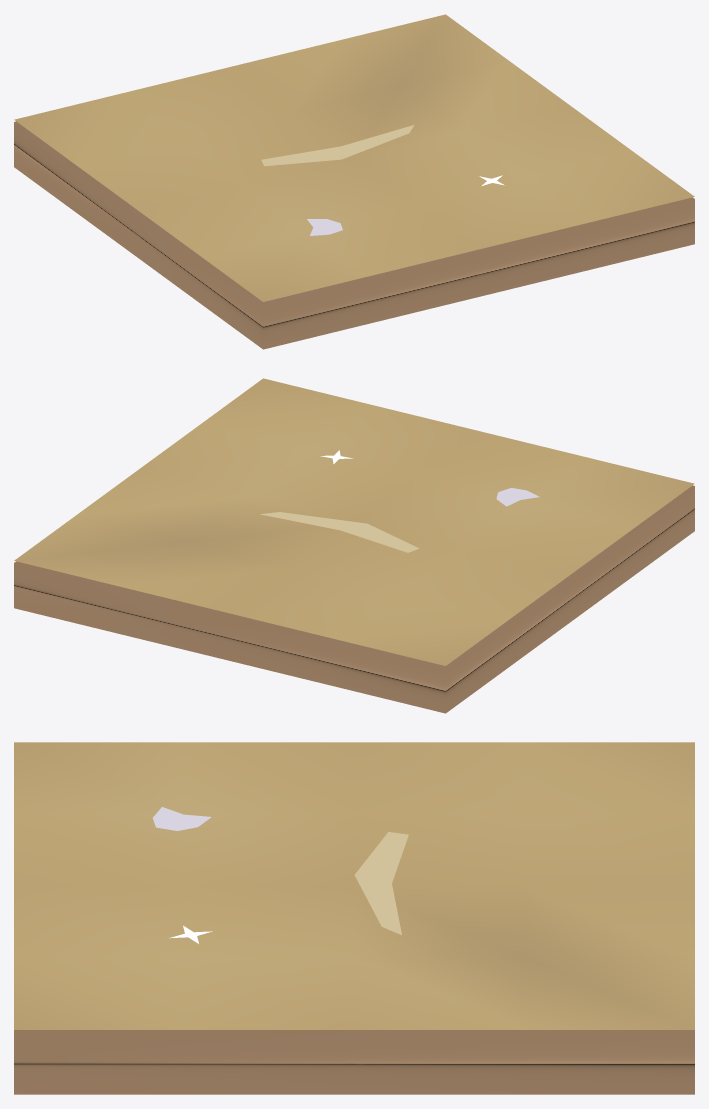
File: tile_beach_wet.glb
3 renders of one model, top to bottom at view 1: azimuth 30°, elevation 25°; view 2: azimuth 150°, elevation 25°; view 3: azimuth 270°, elevation 25°, orthographic. The views are drawn at different scales.
Visible parts, largest first — view 1: Tile.001; view 2: Tile.001; view 3: Tile.001.
Part boxes in pixels (box(x1,y1,x2,y2)): Tile.001: box(14, 14, 694, 349); Tile.001: box(14, 378, 694, 713); Tile.001: box(14, 742, 694, 1094).
Bounding box in the file's own units: 1 × 0.11 × 1.
